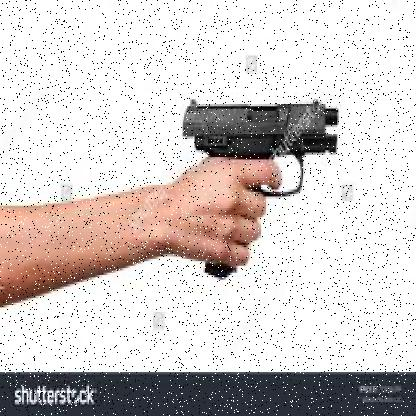pistol: (180, 92, 339, 286)
